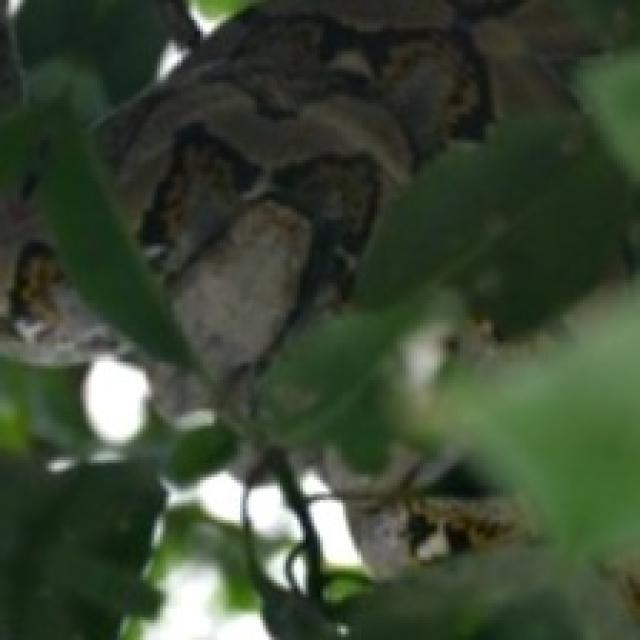reticulated python: (0, 4, 502, 414), (349, 502, 514, 573)
